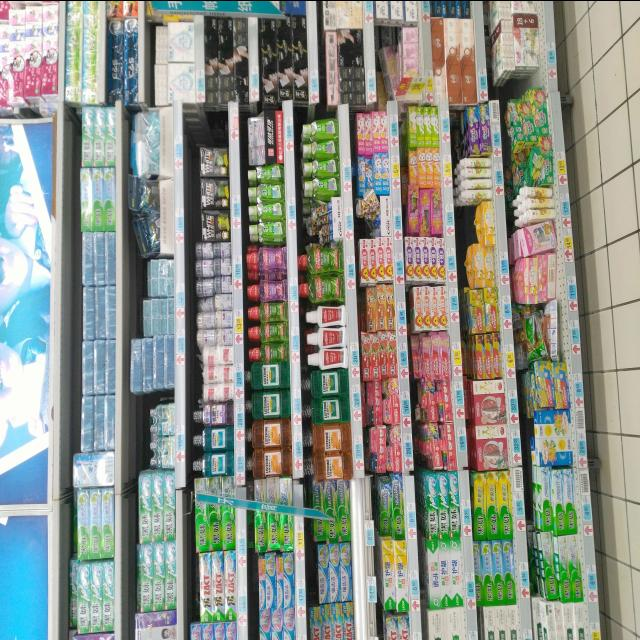empty_space: (188, 112, 226, 142)
